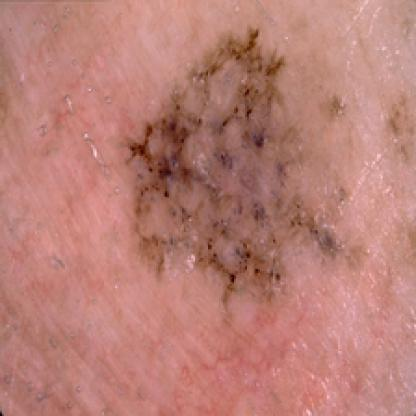malignant: (126, 41, 329, 277)
